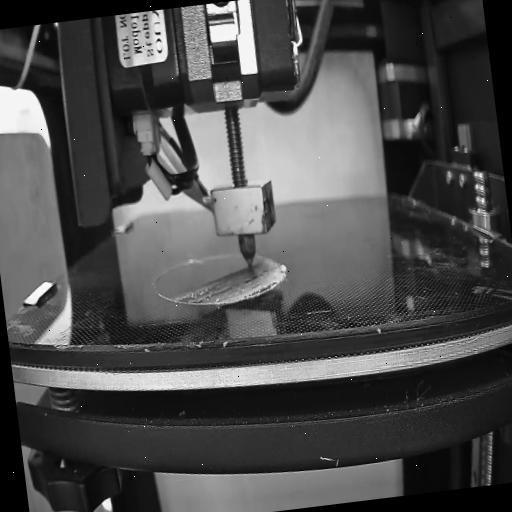under_extrusion: (236, 267, 281, 301), (176, 286, 232, 309)
